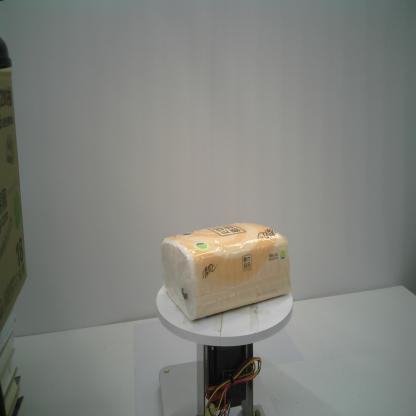Tissue: (162, 222, 293, 322)
